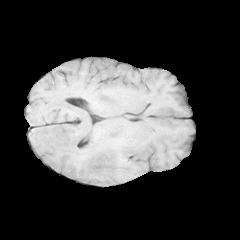glioma: (87, 144, 118, 176)
